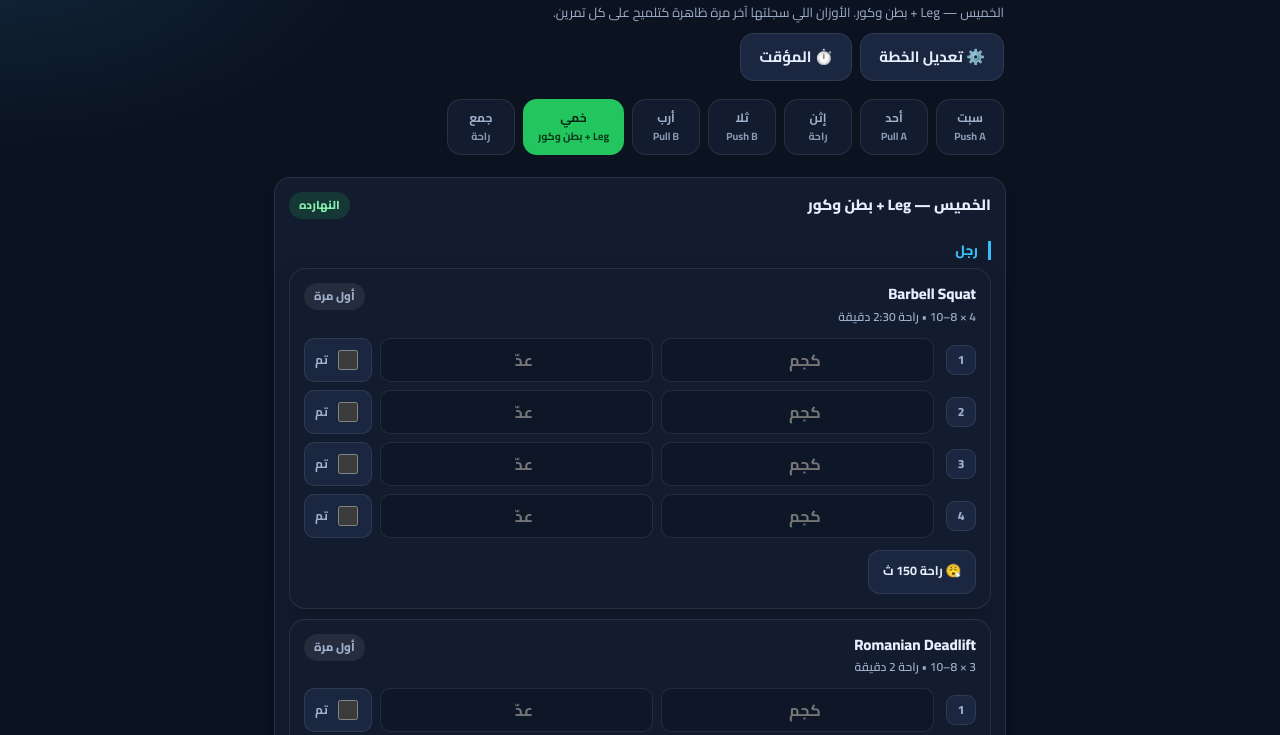
WorkoutPage › renders Saturday = Push A with rep ranges
Click the button "سبت Push A": (970, 127) [936, 99, 1004, 155]
(page scrolled)
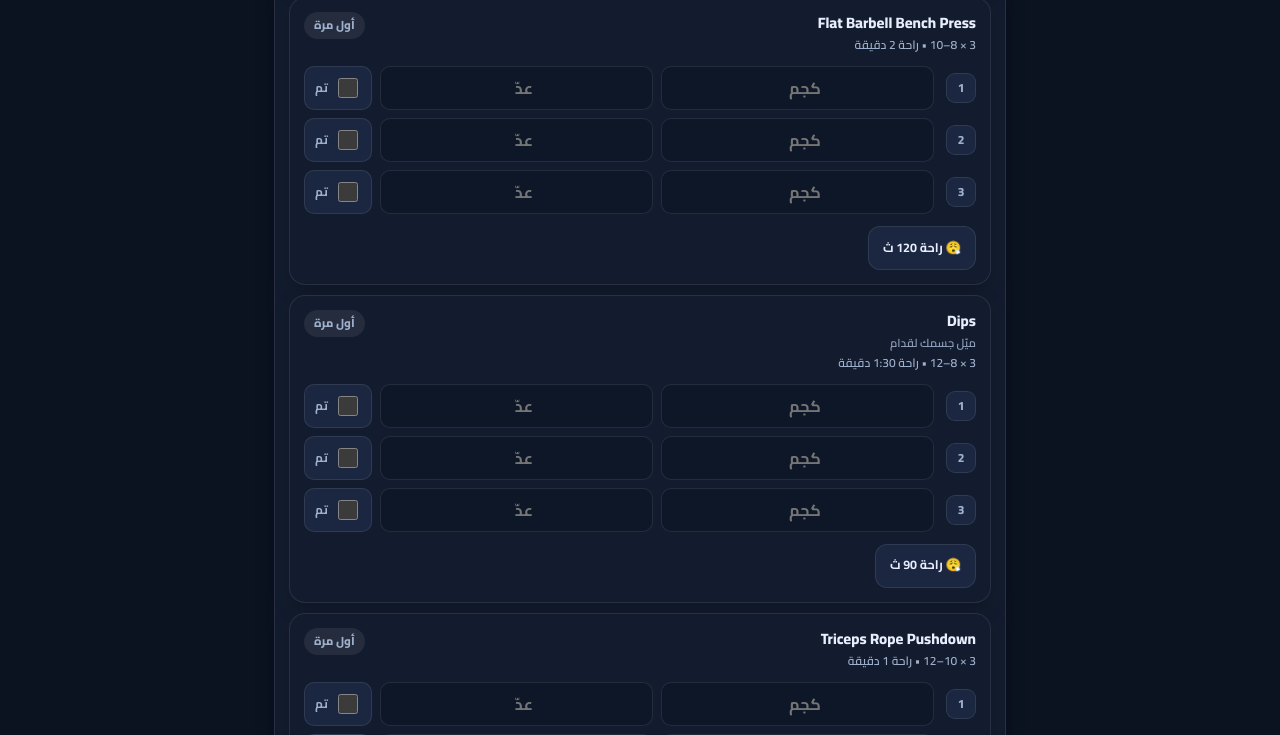
expect the text "3 × 8–10 • راحة 2 دقيقة" is shown: met, box [854, 33, 976, 56]
expect the text "ميّل جسمك لقدام" is shown: met, box [890, 332, 976, 354]
